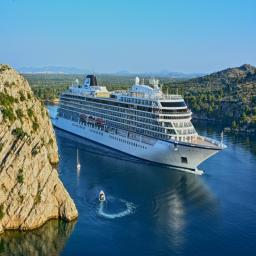cruises: (51, 72, 229, 178)
